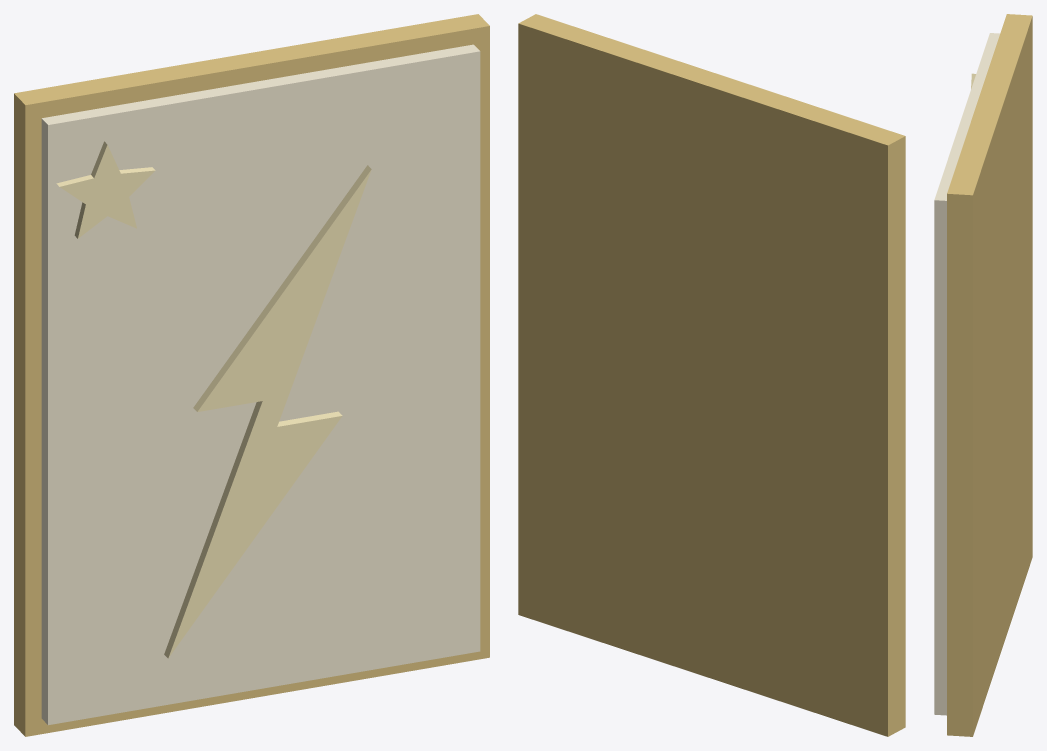
The model's file is xp_card.glb.
3 renders of one model, left to right at view 1: azimuth 30°, elevation 25°; view 2: azimuth 150°, elevation 25°; view 3: azimuth 270°, elevation 25°, orthographic. The views are drawn at different scales.
Visible parts, largest first — view 1: item_xp_card; view 2: item_xp_card; view 3: item_xp_card.
Part boxes in pixels (x1,y1,x2,y2): item_xp_card: (14, 14, 489, 736); item_xp_card: (518, 14, 905, 736); item_xp_card: (934, 14, 1032, 736).
Size of the model in its own units: 0.4594 by 0.64 by 0.1054.
